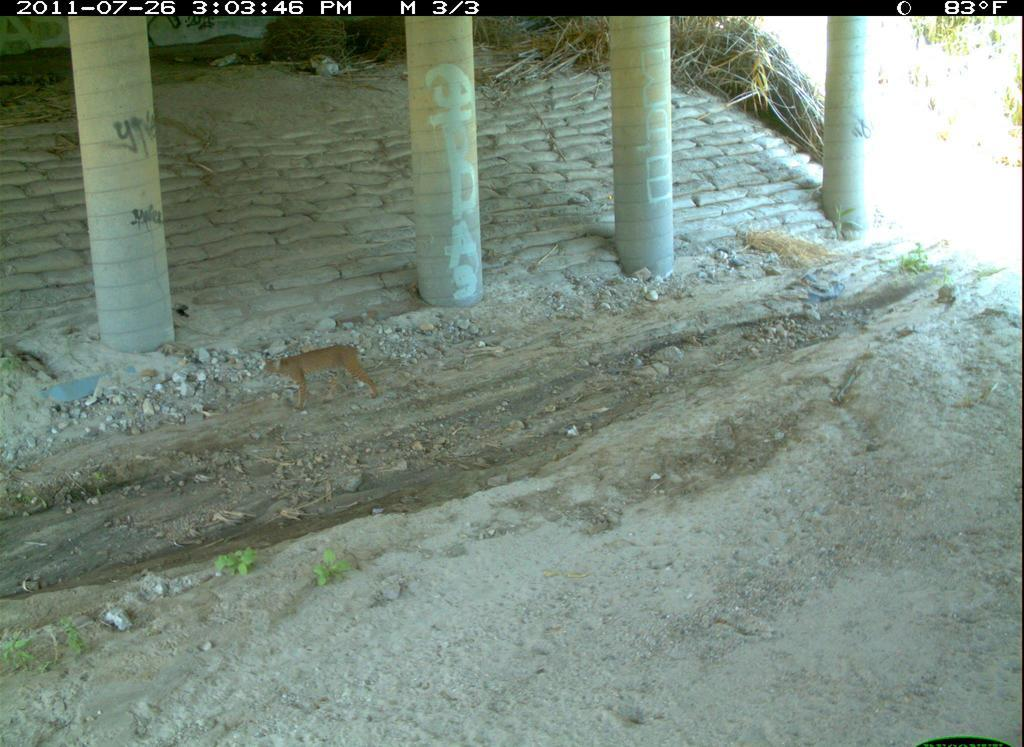bobcat: (514, 674, 774, 747)
